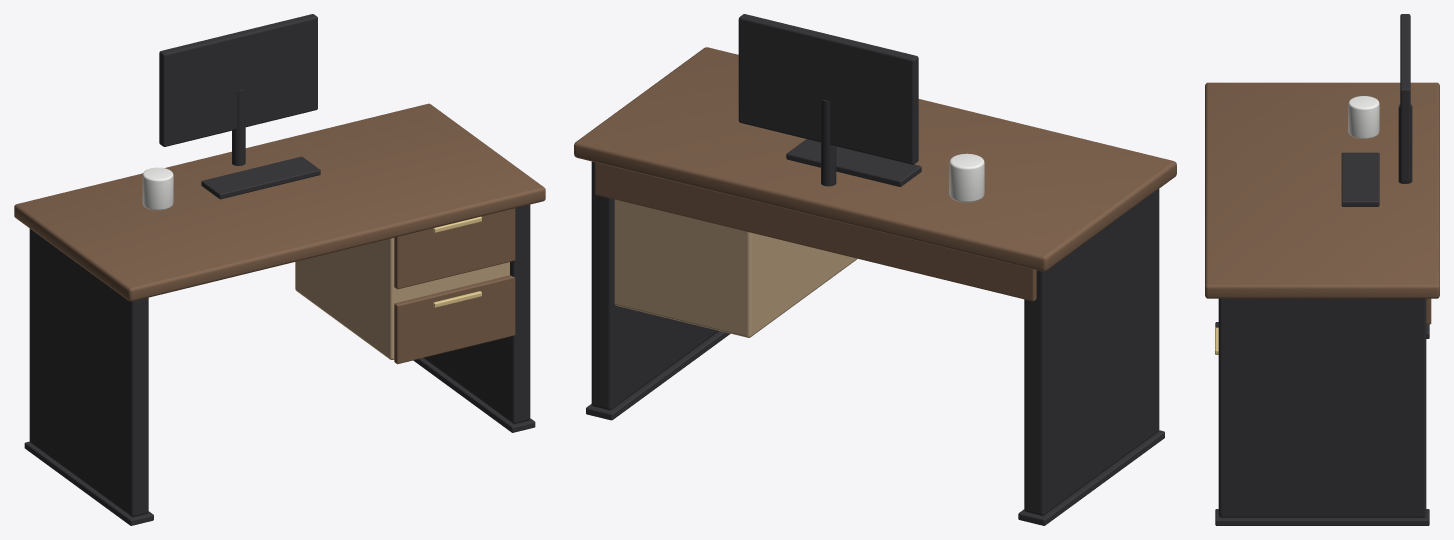
The model's file is modern_desk.glb.
The picture shows the model from 3 angles, left to right: view 1: azimuth 30°, elevation 25°; view 2: azimuth 150°, elevation 25°; view 3: azimuth 270°, elevation 25°; orthographic projection. The views are drawn at different scales.
Visible parts, largest first — view 1: top, leg_frame, monitor, drawer_body, leg_frame.001, drawer_front_0, drawer_front_1, keyboard, foot, mug, foot.001, monitor_stand; view 2: top, leg_frame, drawer_body, monitor, back_apron, leg_frame.001, keyboard, foot, mug, foot.001, monitor_stand; view 3: top, leg_frame.001, keyboard, foot.001, monitor, mug, monitor_stand.
Boxes of the visible parts, x1,y1,x2,y2 form: top: (14,103,545,301); leg_frame: (29,228,148,516); monitor: (159,14,317,146); drawer_body: (295,238,509,359); leg_frame.001: (423,204,530,423); drawer_front_0: (394,275,515,364); drawer_front_1: (394,208,515,289); keyboard: (201,156,320,199); foot: (24,441,153,525); mug: (142,167,173,210); foot.001: (413,358,535,432); monitor_stand: (232,89,245,165); top: (574,47,1176,271); leg_frame: (1024,189,1159,515); drawer_body: (614,199,856,337); monitor: (738,14,918,164); back_apron: (595,162,1036,301); leg_frame.001: (591,161,718,410); keyboard: (786,139,921,186); foot: (1018,430,1164,525); mug: (949,153,984,202); foot.001: (586,331,730,420); monitor_stand: (821,99,836,186); top: (1205,82,1439,298); leg_frame.001: (1218,298,1426,517); keyboard: (1341,152,1379,206); foot.001: (1215,509,1429,525); monitor: (1400,14,1410,182); mug: (1348,96,1379,138); monitor_stand: (1398,104,1412,184).
Bounding box in the file's own units: 1.4 × 1.2 × 0.68.
